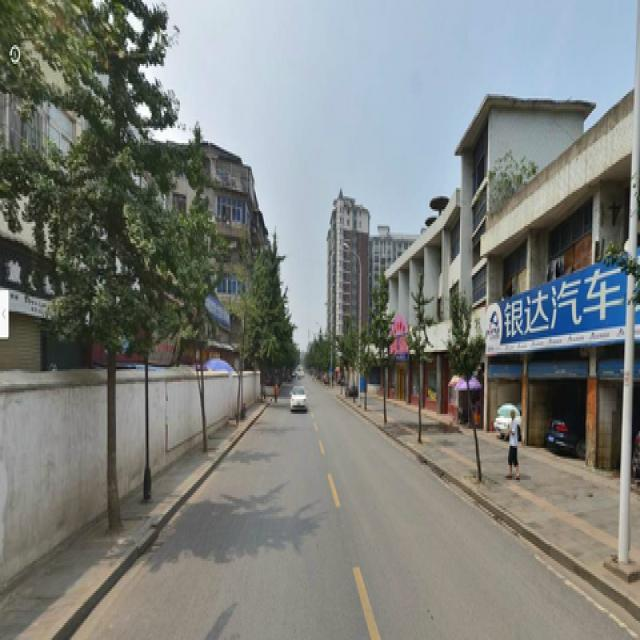gink: (76, 13, 156, 516), (170, 160, 230, 439)
